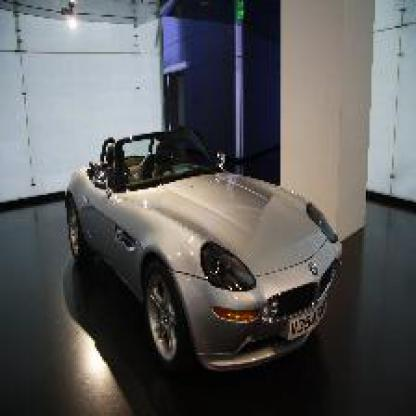not_emergency: (54, 126, 371, 364)
